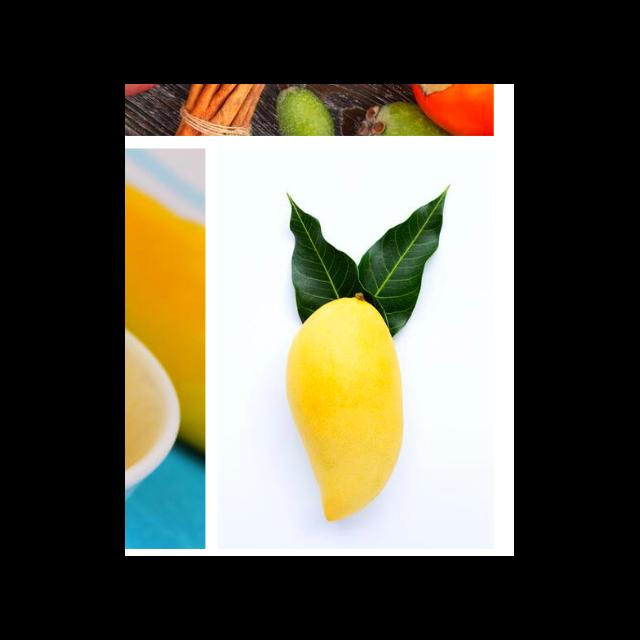mango: (284, 293, 402, 522)
